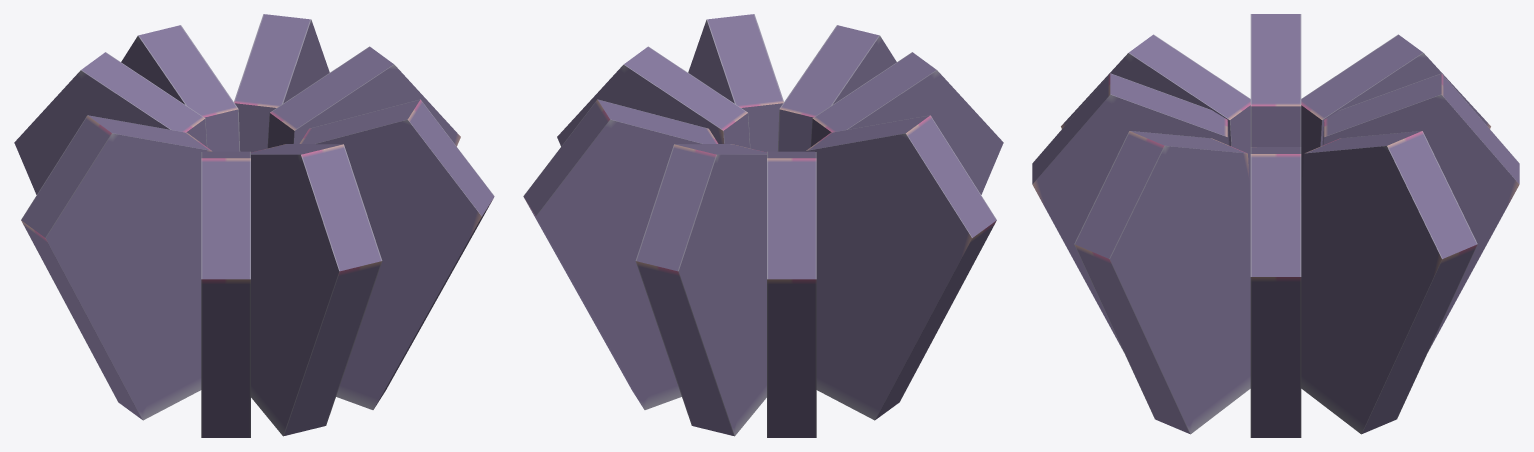
Rendered from dead-grass.gltf.
3 renders of one model, left to right at view 1: azimuth 30°, elevation 25°; view 2: azimuth 150°, elevation 25°; view 3: azimuth 270°, elevation 25°, orthographic.
Bounding box in the file's own units: 4.82 × 3.27 × 4.82.
Materials: 1 (1 with a texture image).
